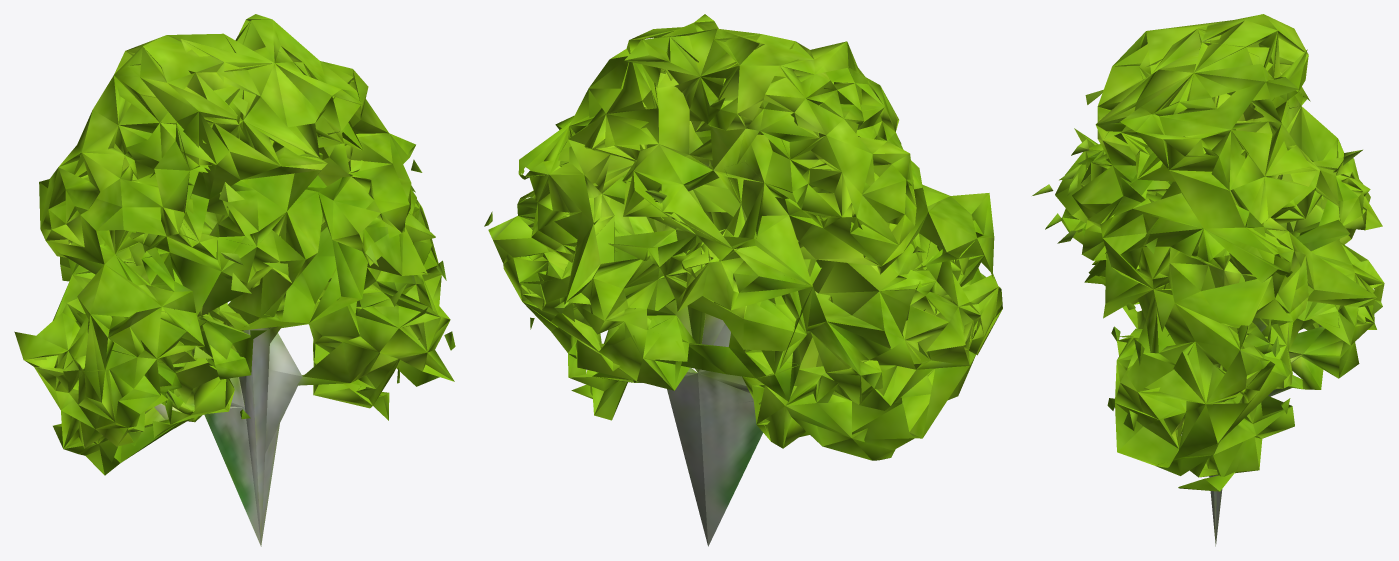
The model's file is birch_tree.glb.
The picture shows the model from 3 angles, left to right: view 1: azimuth 30°, elevation 25°; view 2: azimuth 150°, elevation 25°; view 3: azimuth 270°, elevation 25°; orthographic projection. The views are drawn at different scales.
Visible parts, largest first — view 1: model; view 2: model; view 3: model.
Part boxes in pixels (left/top/right/bottom): model: left=14, top=14, right=455, bottom=546; model: left=484, top=14, right=1002, bottom=546; model: left=1032, top=14, right=1384, bottom=546.
Bounding box in the file's own units: 1.5 × 1.72 × 1.11.
1 material, 1 textured.
